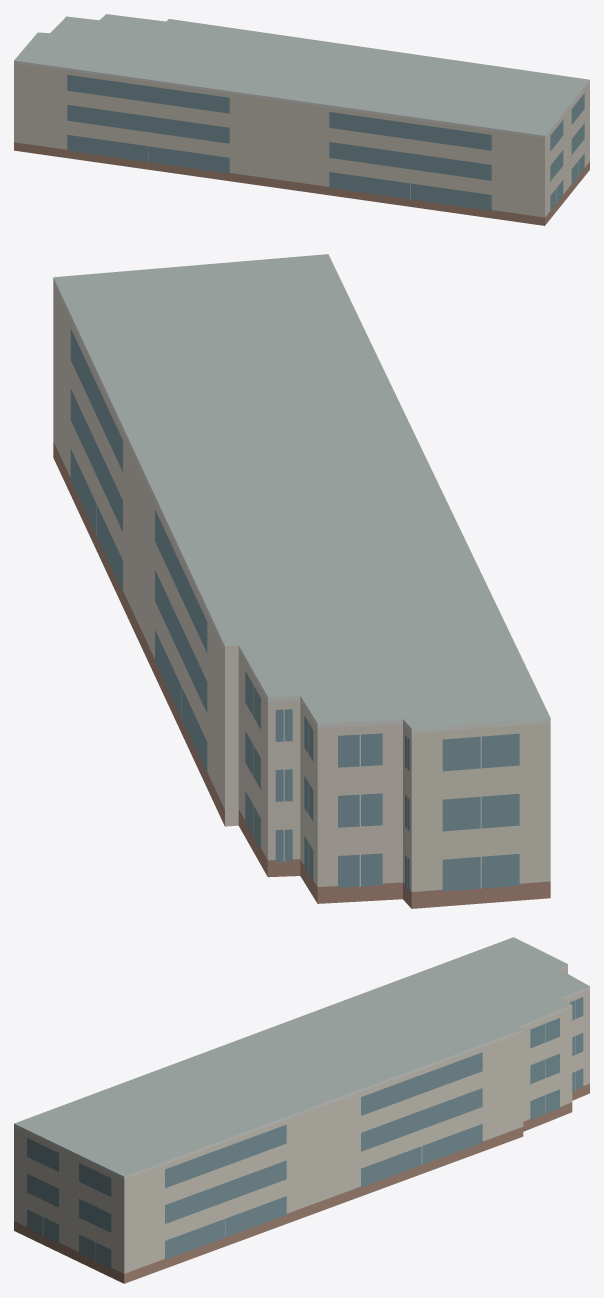
File: survey-upis-32694811.glb
3 renders of one model, top to bottom at view 1: azimuth 30°, elevation 25°; view 2: azimuth 150°, elevation 25°; view 3: azimuth 270°, elevation 25°, orthographic. The views are drawn at different scales.
Parts seen in each view (by area): view 1: survey-upis-32694811.tmp; view 2: survey-upis-32694811.tmp; view 3: survey-upis-32694811.tmp.
Part boxes in pixels (box(x1,y1,x2,y2)): survey-upis-32694811.tmp: box(14, 14, 589, 225); survey-upis-32694811.tmp: box(53, 254, 550, 908); survey-upis-32694811.tmp: box(14, 937, 589, 1283).
Bounding box in the file's own units: 43.82 × 9.15 × 44.53.
